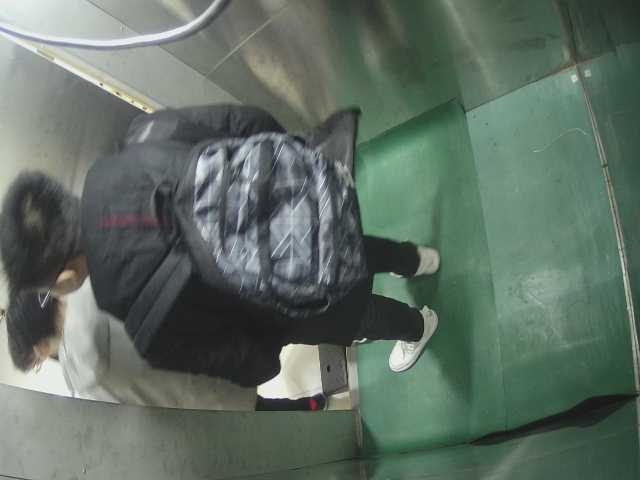bag: (174, 126, 385, 316)
person: (7, 108, 448, 358)
